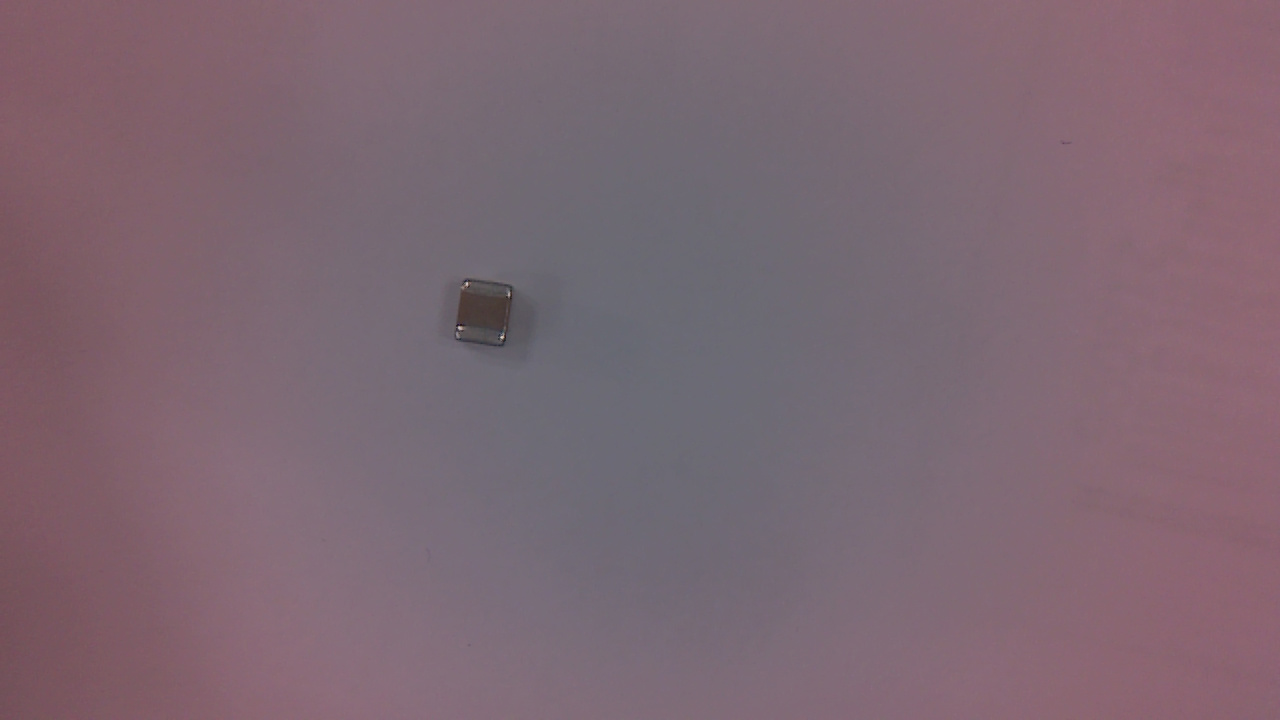Condensator: (457, 283, 519, 355)
